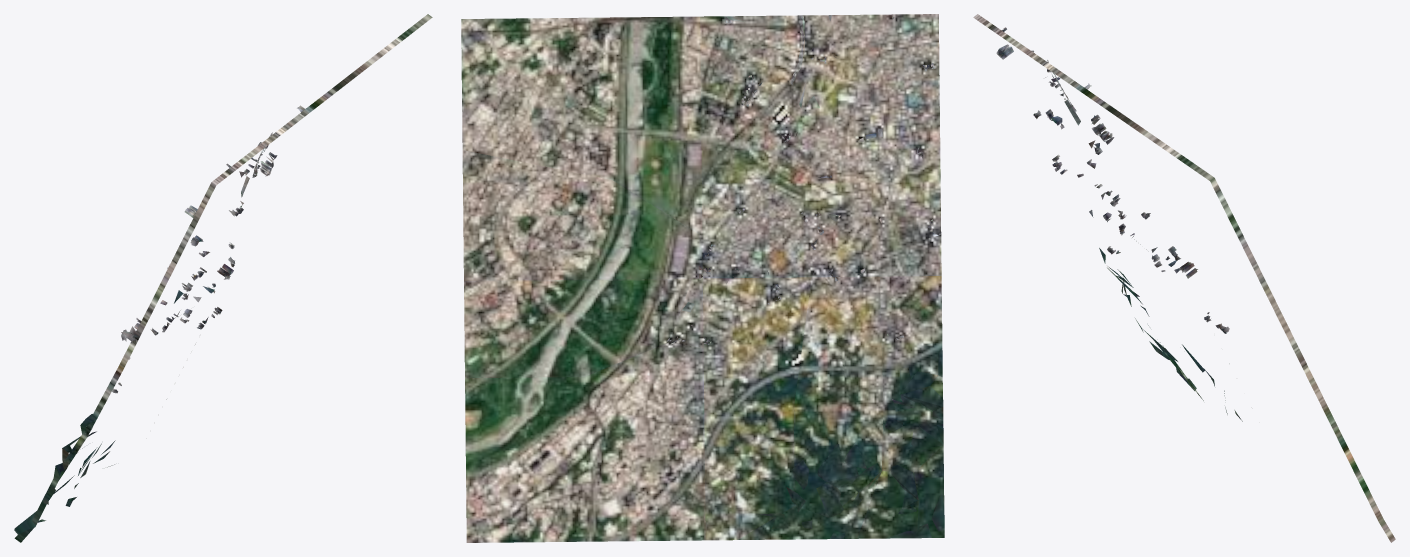
The picture shows the model from 3 angles, left to right: view 1: azimuth 30°, elevation 25°; view 2: azimuth 150°, elevation 25°; view 3: azimuth 270°, elevation 25°; orthographic projection. The views are drawn at different scales.
Size of the model in its own units: 4972 by 4445 by 4138.
Materials: 1 (1 with a texture image).
